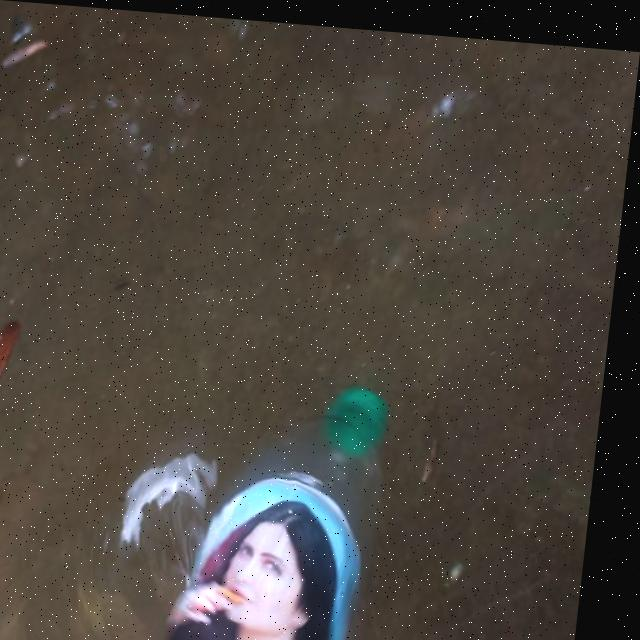leaf: (0, 310, 49, 441)
waterbottle: (180, 333, 449, 640)
